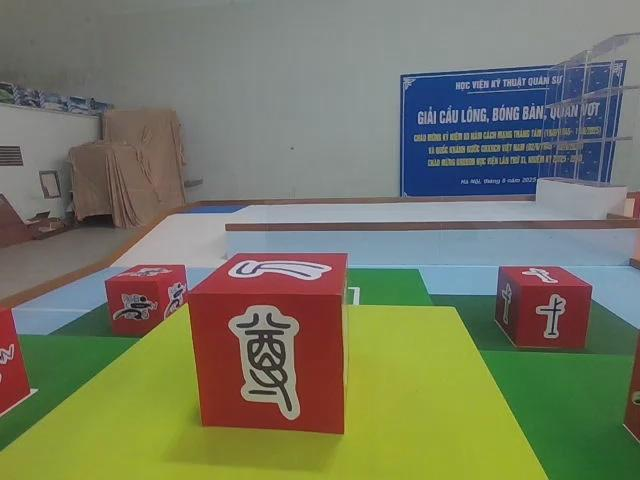R1: (102, 261, 190, 338)
R2 Fake: (189, 253, 346, 434)
R2 Real: (497, 264, 594, 350)
